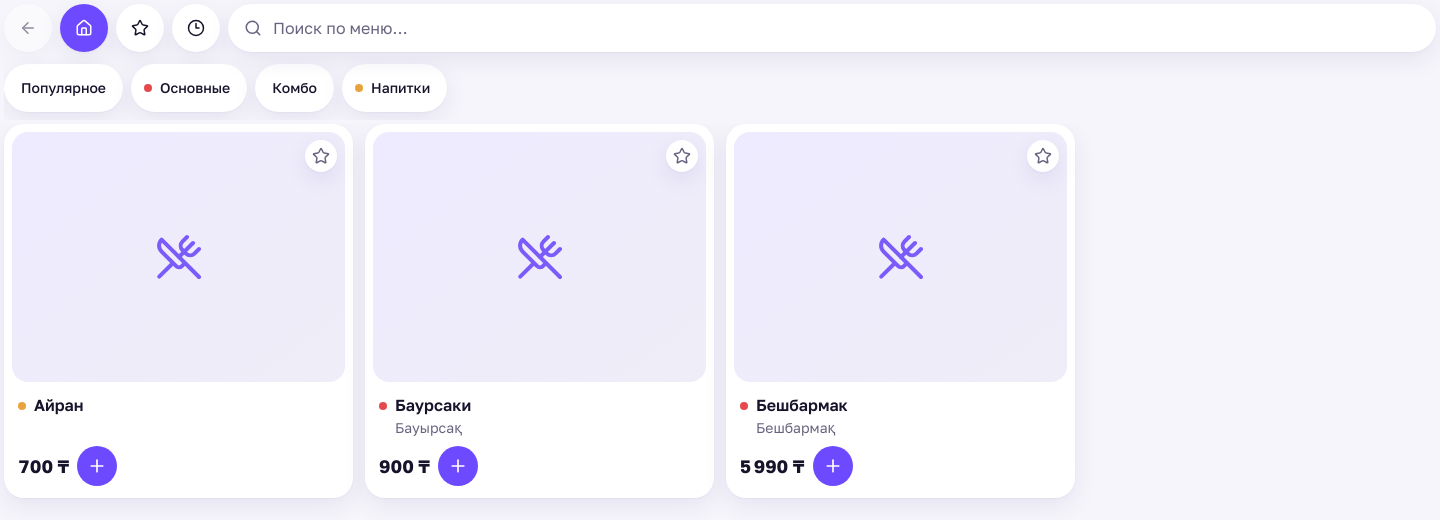
Test case: CatalogPanel (W1-POS-11) › search replaces the category and shows the empty state for no match
The image size is (1440, 520).
Type "пицца" into the search field at (832, 28), box [228, 4, 1436, 52]
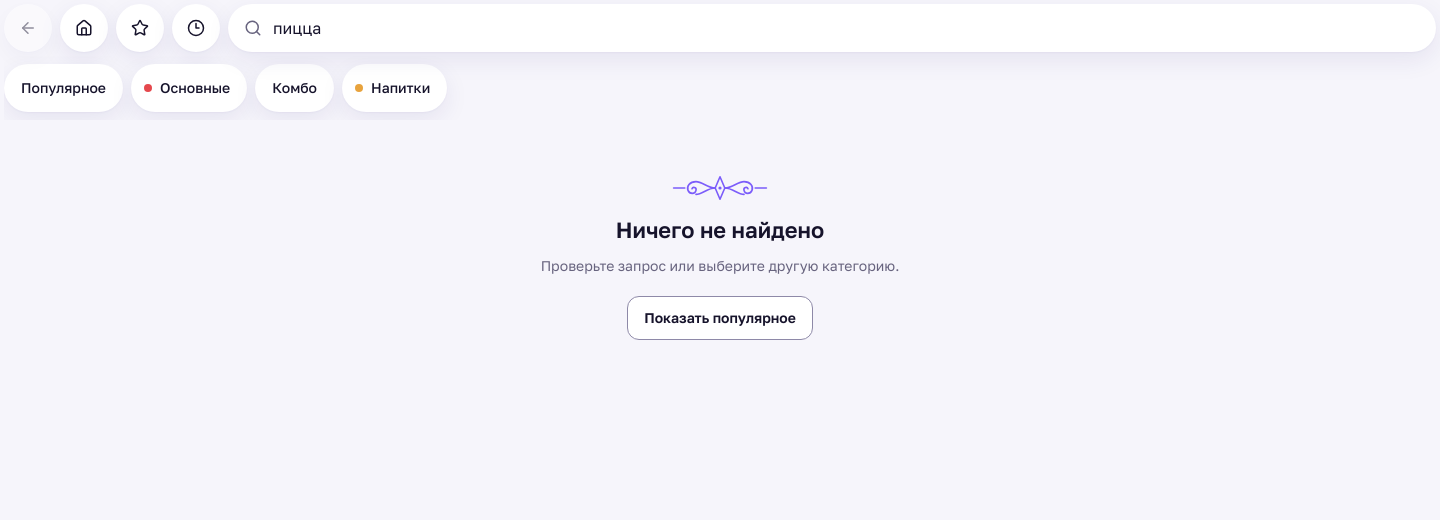
Check: the text "Проверьте запрос или выберите другую категорию." is shown, box [541, 256, 899, 276]
